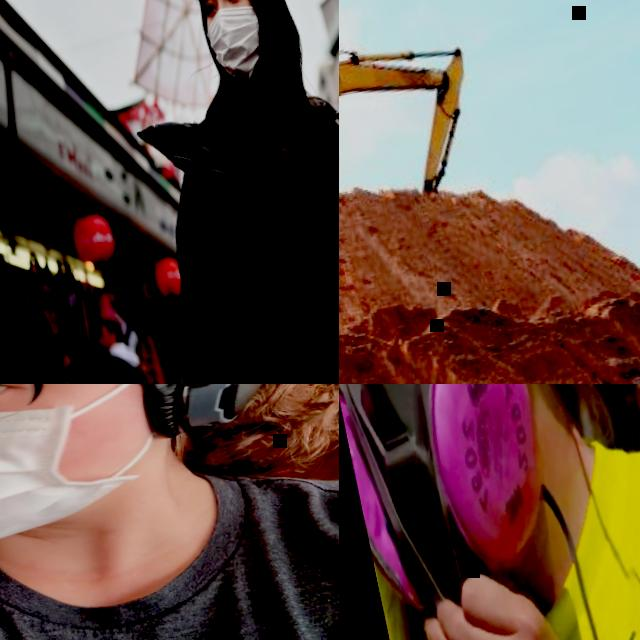Mask: (339, 384, 567, 620), (0, 384, 193, 571), (199, 3, 271, 90)
NO-Hardhat: (99, 313, 123, 332)
NO-Mask: (93, 334, 112, 350)
NO-Safety Vest: (355, 419, 640, 640), (0, 456, 339, 640), (192, 98, 339, 384), (90, 355, 161, 384)
Person: (90, 0, 339, 384), (0, 384, 339, 640), (339, 384, 640, 640), (54, 307, 188, 384)
vehicle: (339, 25, 488, 238)
